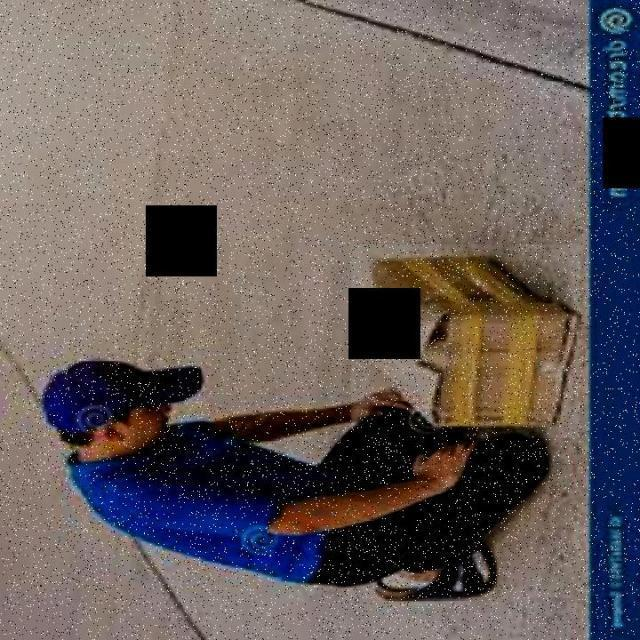box: (351, 244, 580, 438)
